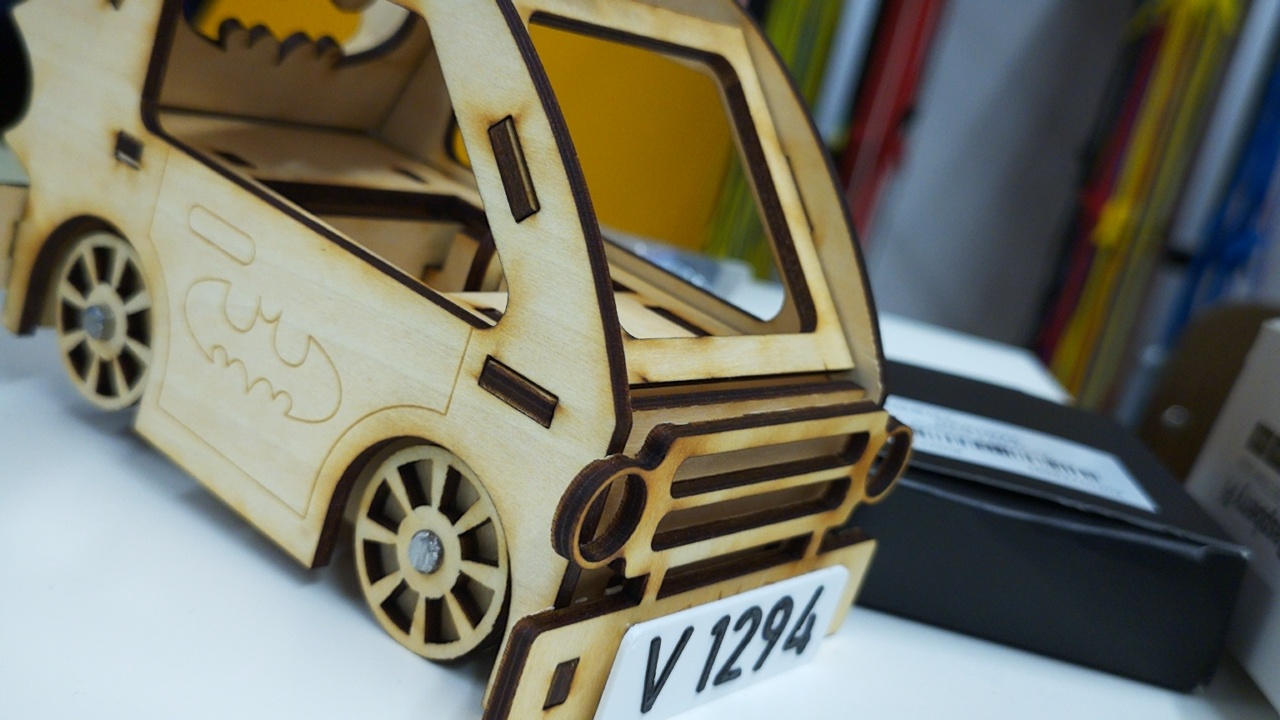license_plate: (583, 567, 849, 720)
